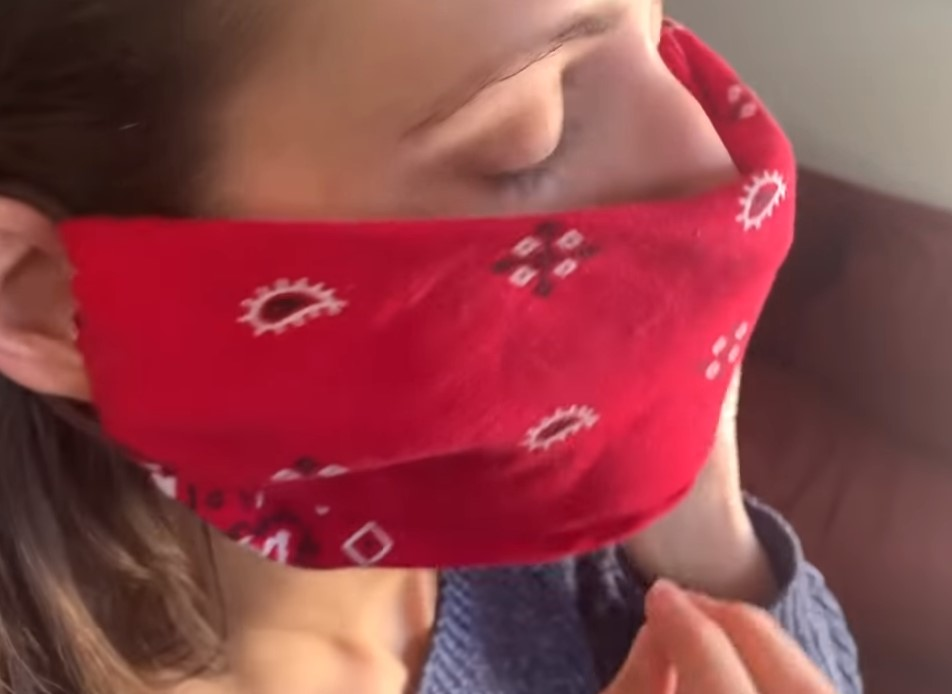face_with_mask: (26, 8, 805, 574)
